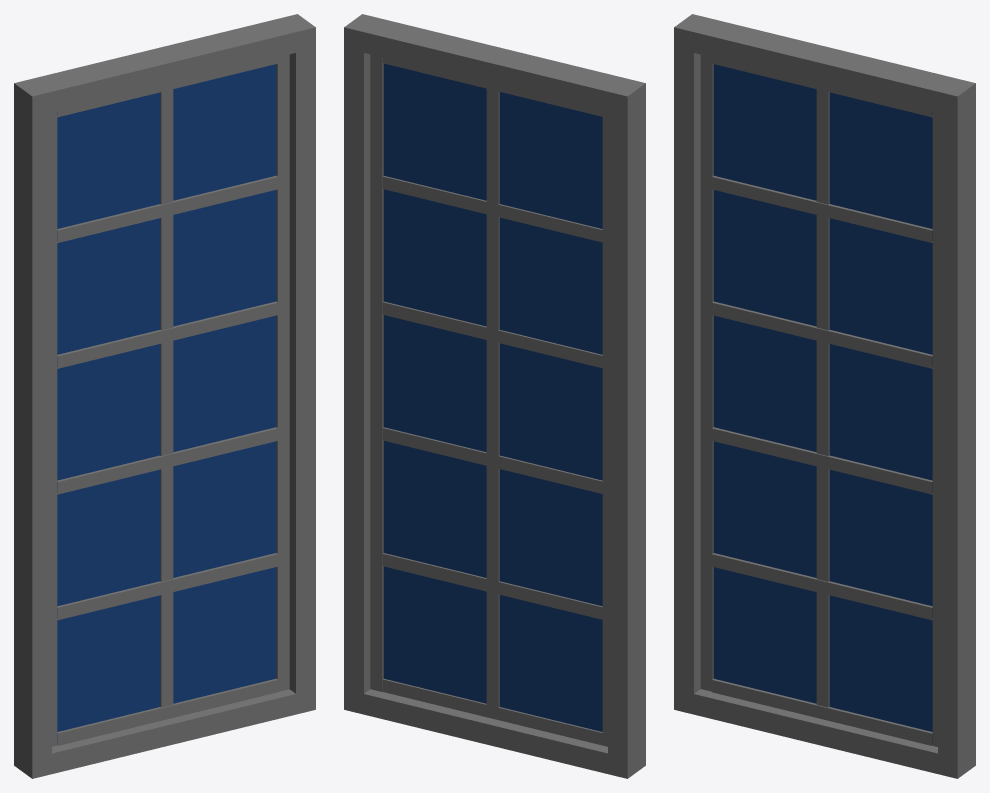
Rendered from window3.FBX.
3 views of the same model, side by side, from view 1: azimuth 30°, elevation 25°; view 2: azimuth 150°, elevation 25°; view 3: azimuth 330°, elevation 25° (orthographic).
Bounding box in the file's own units: 100 × 11.14 × 230.
